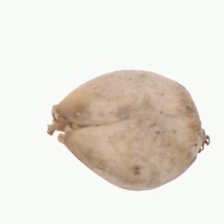L1: (191, 101, 211, 163), (46, 104, 70, 148)
L2: (47, 68, 210, 192)
